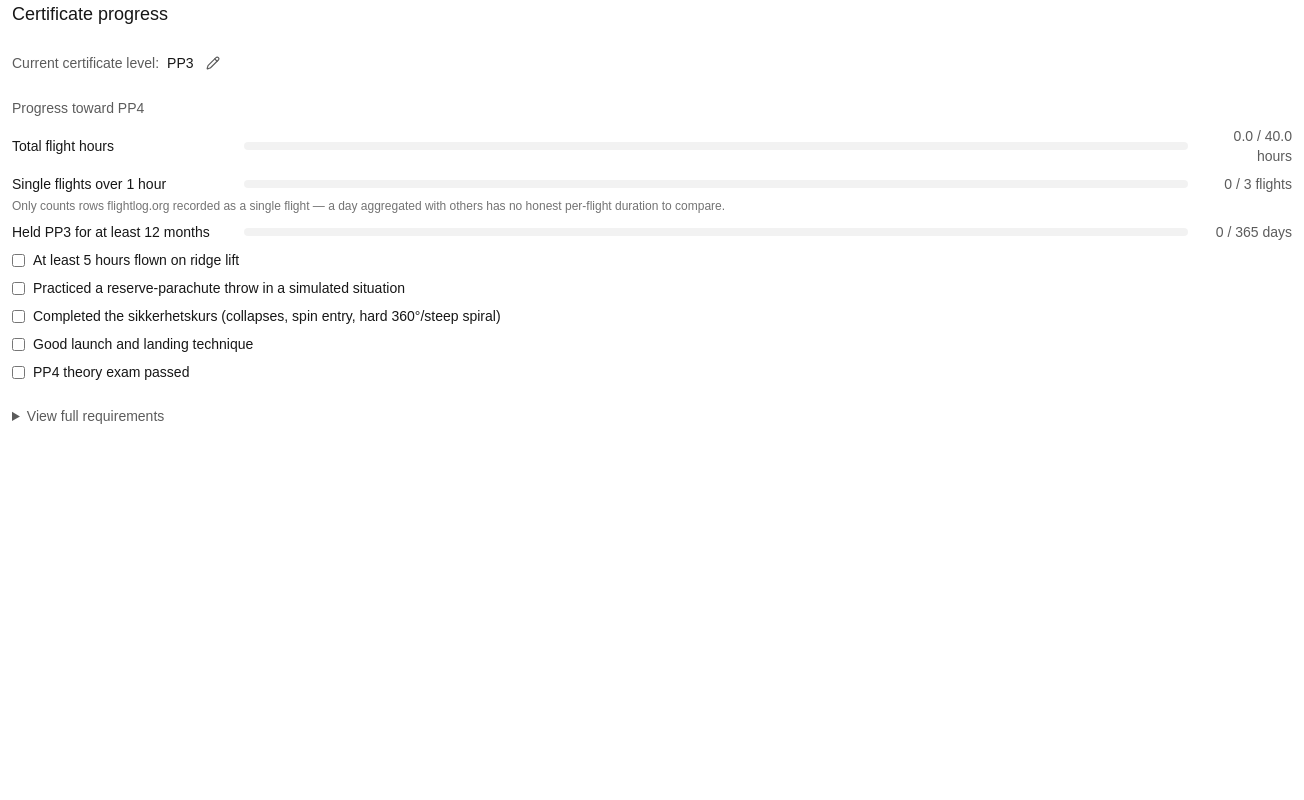
Test: PilotCertificateProgress › renders the level form for the owner even once a level is declared, prefilled once opened
Step 1. Click the button named "edit certificate level" → point(212, 63), box left=202, top=52, right=224, bottom=74
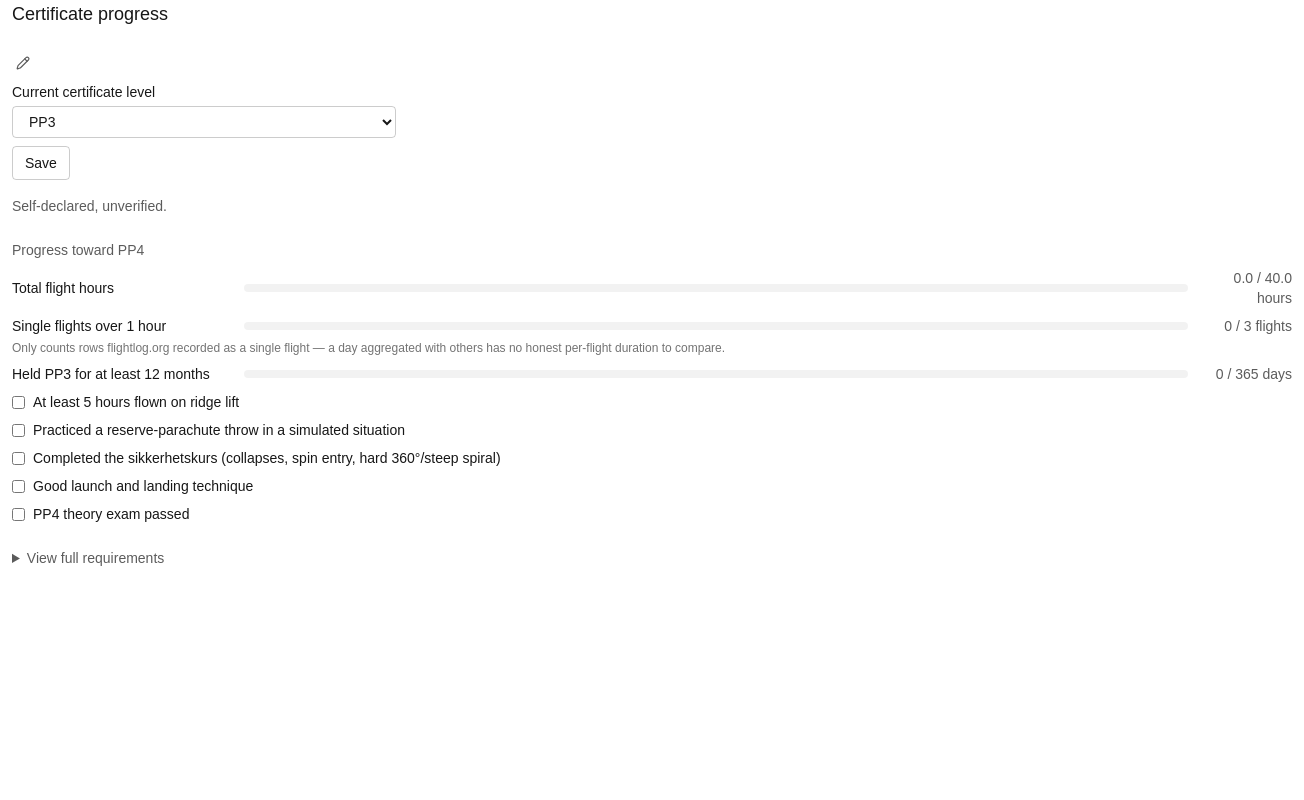
Expected: the dropdown labelled "Current certificate level" shows "PP3", left=12, top=106, right=396, bottom=138
